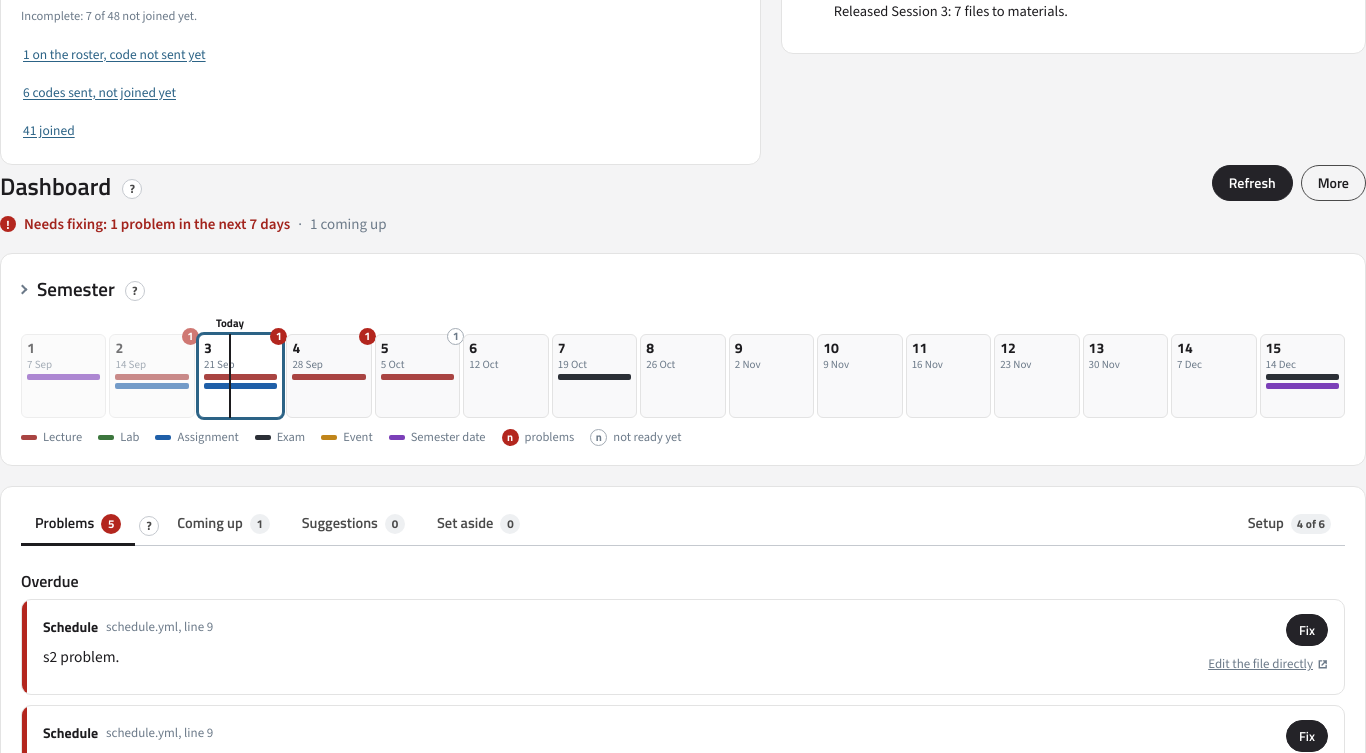
Test: release rows by time (decision 0034 §6) › marks the agenda rows the same way, and keeps the late sentence
(page scrolled)
Step 1. Click the button "1 3 21 Sep" → (241, 376), box [198, 334, 283, 418]
(page scrolled)
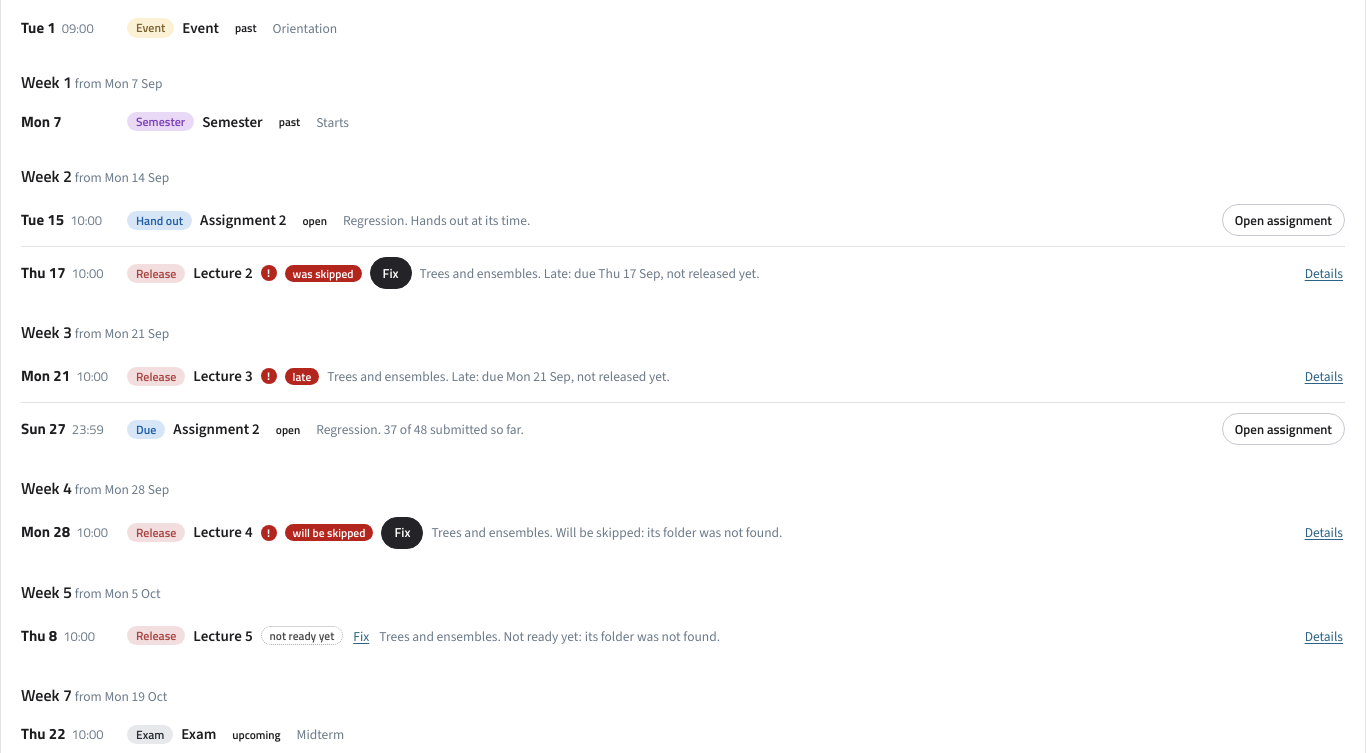
Expected: the list item with aria-label "Release · Lecture 3 · late · Trees and ensembles. Late: due" shows "Late: due Mon 21 Sep, not released yet.", [327, 367, 670, 385]
Now the list item with aria-label "Release · Lecture 4 · will be skipped · Trees and ensembles." shows "Will be skipped: its folder was not found.", box [431, 523, 782, 541]
Now the list item with aria-label "Release · Lecture 5 · not ready yet · Trees and ensembles. N" shows "Not ready yet: its folder was not found.", box [379, 627, 720, 645]
